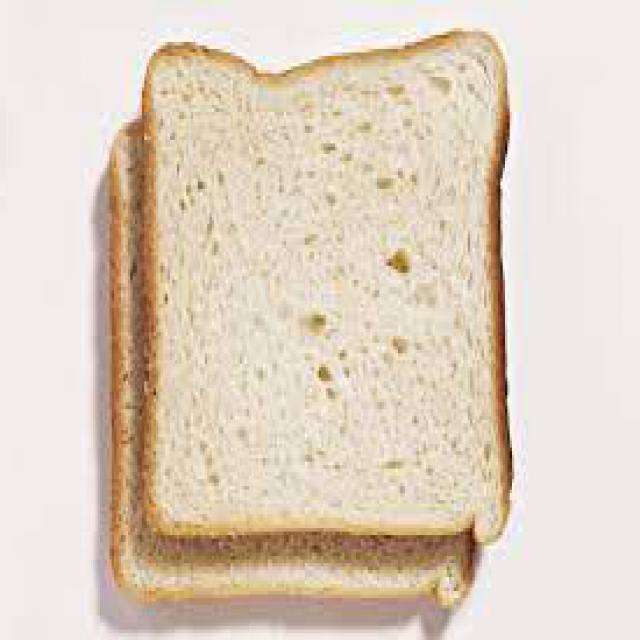Bread: (104, 23, 510, 604)
